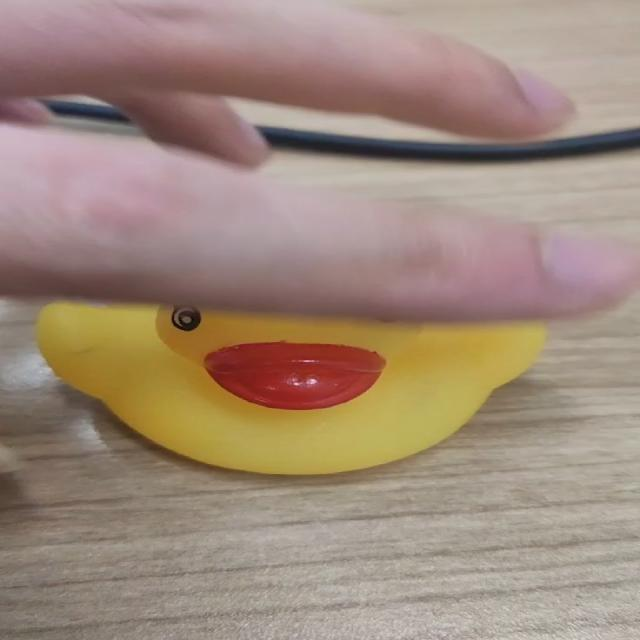rubber-duck: (37, 302, 543, 472)
